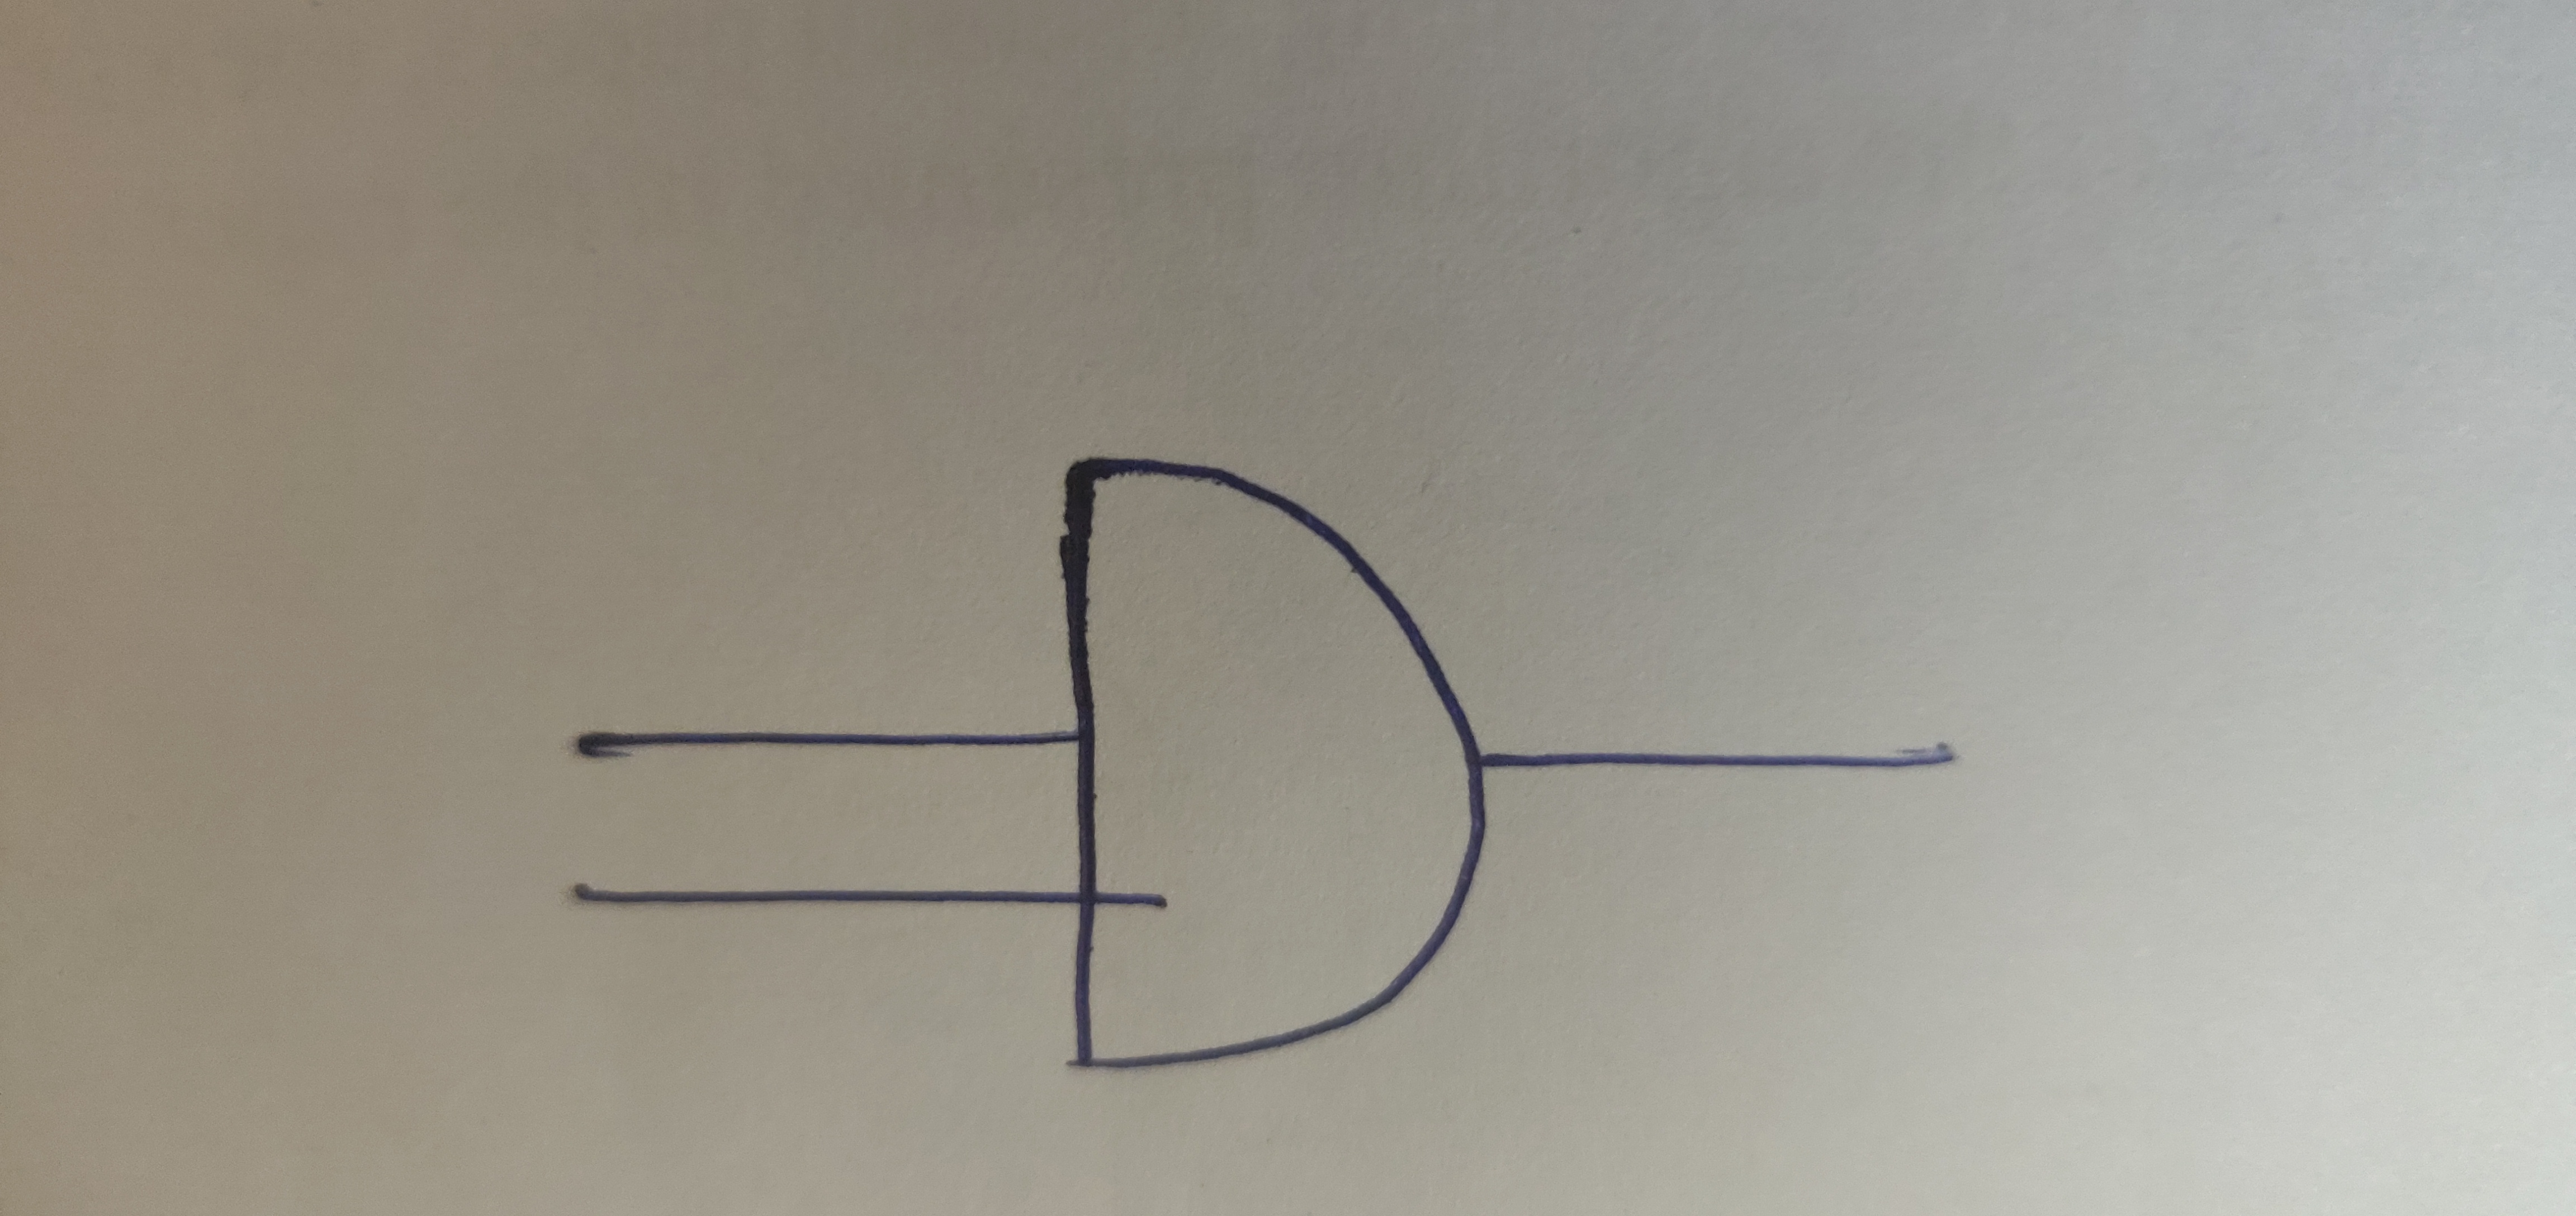and: (956, 385, 1636, 1154)
